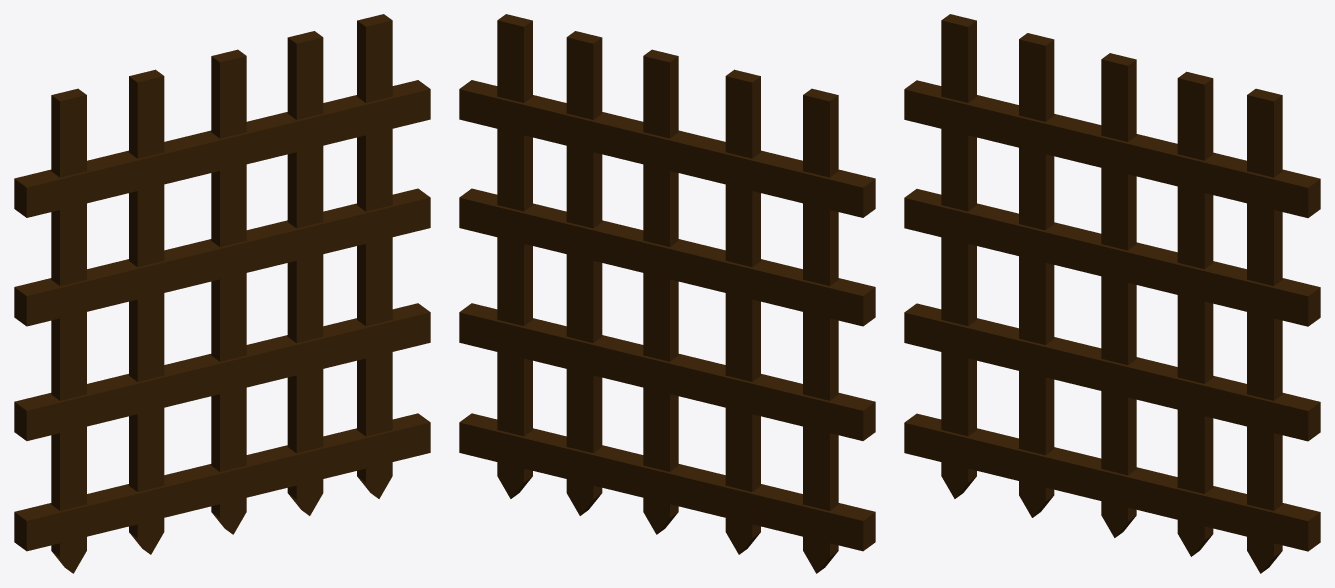
File: woodengate_portcullis.fbx
3 renders of one model, left to right at view 1: azimuth 30°, elevation 25°; view 2: azimuth 150°, elevation 25°; view 3: azimuth 330°, elevation 25°, orthographic.
Parts seen in each view (by area): view 1: polySurface290; view 2: polySurface290; view 3: polySurface290.
Boxes of the visible parts, x1,y1,x2,y2 form: polySurface290: [14, 14, 430, 573]; polySurface290: [459, 14, 875, 573]; polySurface290: [904, 14, 1320, 573].
Bounding box in the file's own units: 77.43 × 87.14 × 4.17.
1 material, 1 textured.
